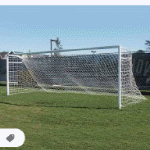goals: (4, 43, 147, 112)
